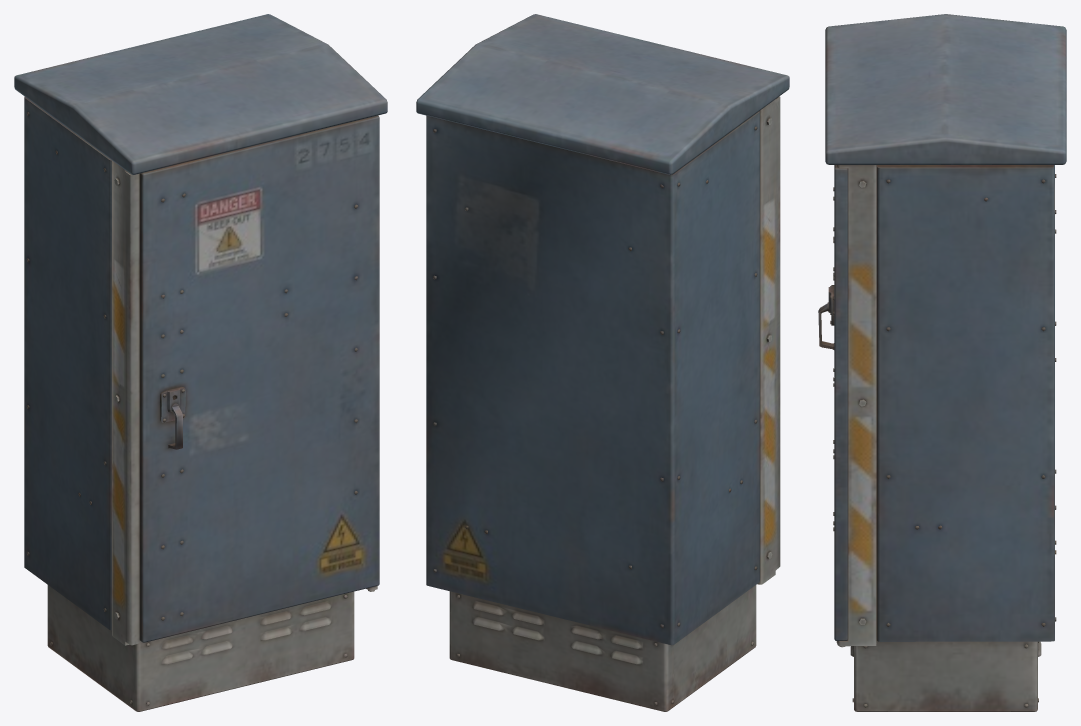
The model's file is utility_box_01.glb.
3 renders of one model, left to right at view 1: azimuth 30°, elevation 25°; view 2: azimuth 150°, elevation 25°; view 3: azimuth 270°, elevation 25°, orthographic.
Parts seen in each view (by area): view 1: utility_box_01_box; view 2: utility_box_01_box; view 3: utility_box_01_box.
Boxes of the visible parts, x1=… form: utility_box_01_box: x1=14, y1=14, x2=387, y2=711; utility_box_01_box: x1=416, y1=14, x2=789, y2=711; utility_box_01_box: x1=818, y1=14, x2=1066, y2=711.
Bounding box in the file's own units: 0.52 × 1.12 × 0.432.
1 material, 1 textured.
